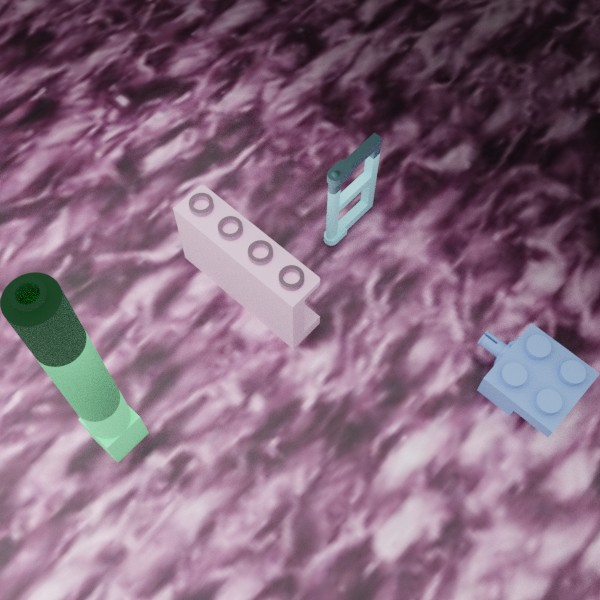lego: (0, 272, 148, 462), (172, 185, 320, 349), (476, 323, 600, 437), (323, 132, 382, 245)
